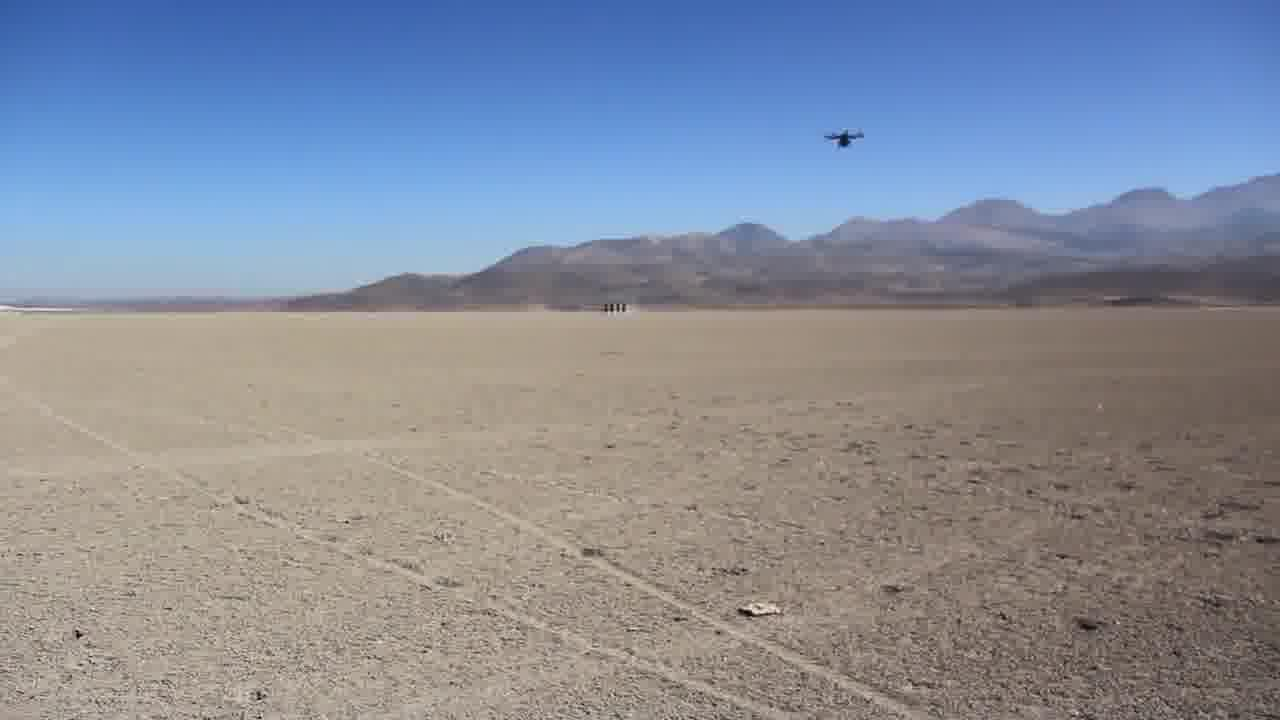drone: (821, 125, 857, 155)
